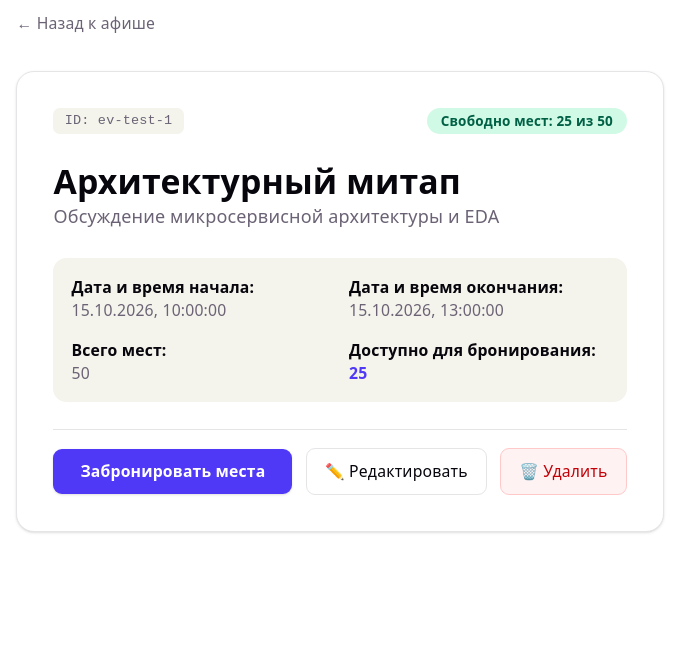
Test: GetEventById › Component Rendering & Interactions › displays error banner when actionData contains error after delete submission
What coordinates should you click on to do the following:
click the button "🗑️ Удалить"
I would click on:
 (563, 472)
Its box is x1=500 y1=448 x2=626 y2=495.
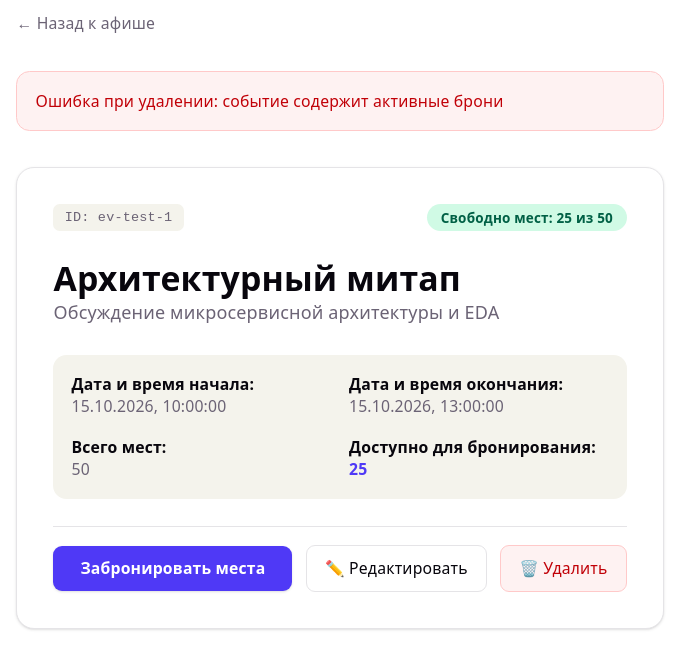
Check: the text "Ошибка при удалении: событие содержит активные брони" is shown, box x1=16 y1=70 x2=664 y2=131
